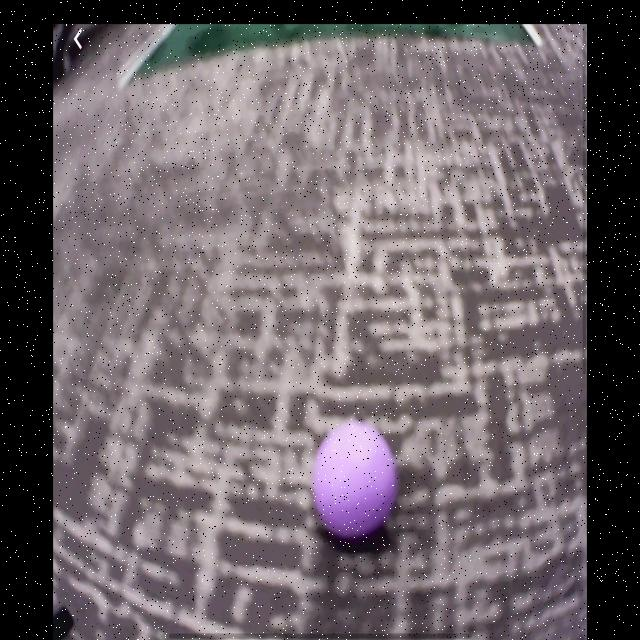ball: (312, 422, 396, 538)
